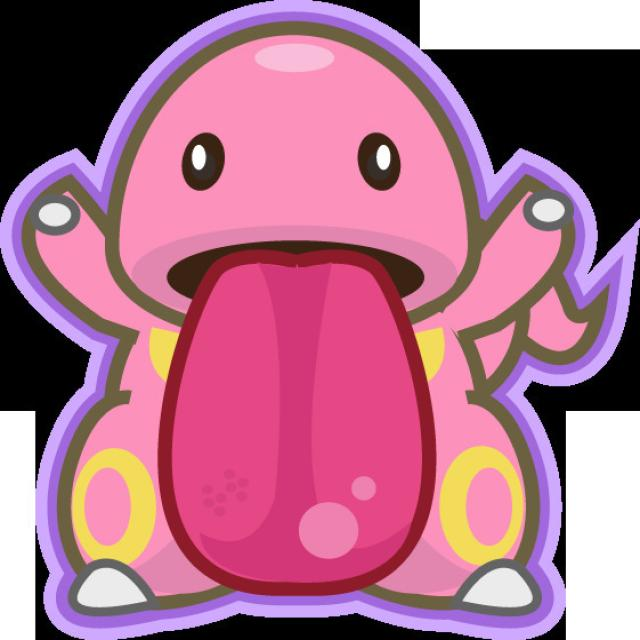Lickitung: (23, 10, 618, 640)
